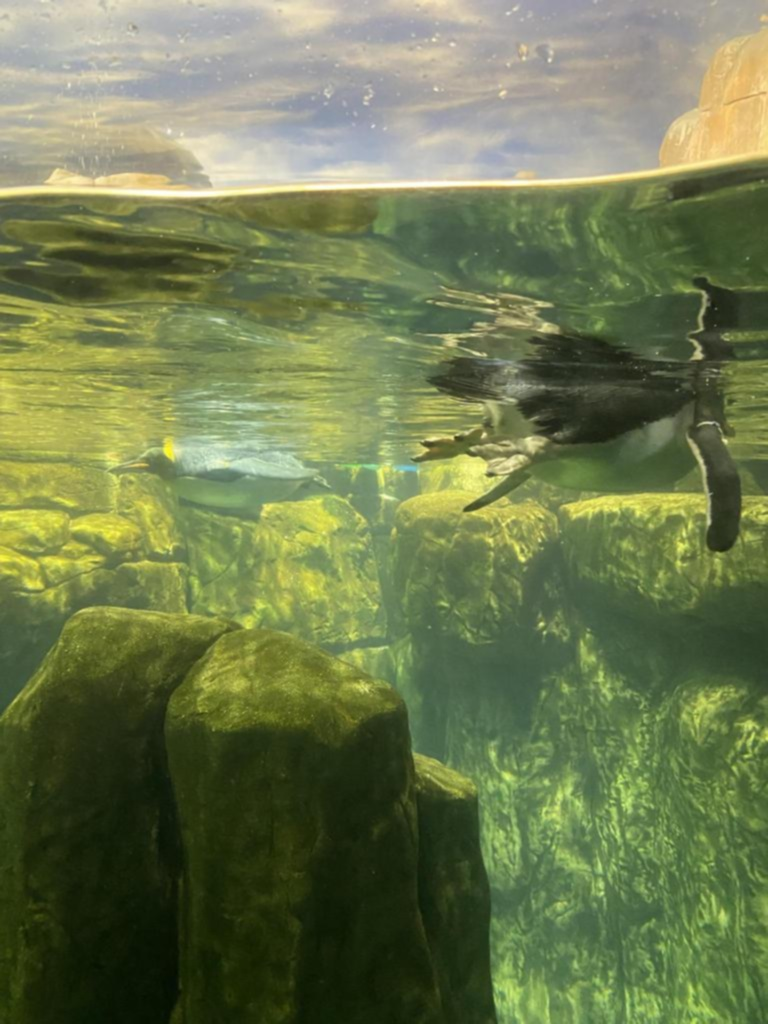penguin: (411, 334, 741, 550), (110, 442, 332, 518)
